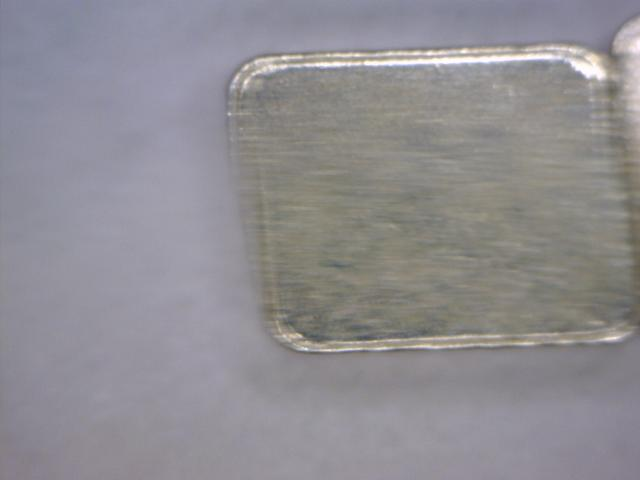nok: (225, 38, 636, 356)
